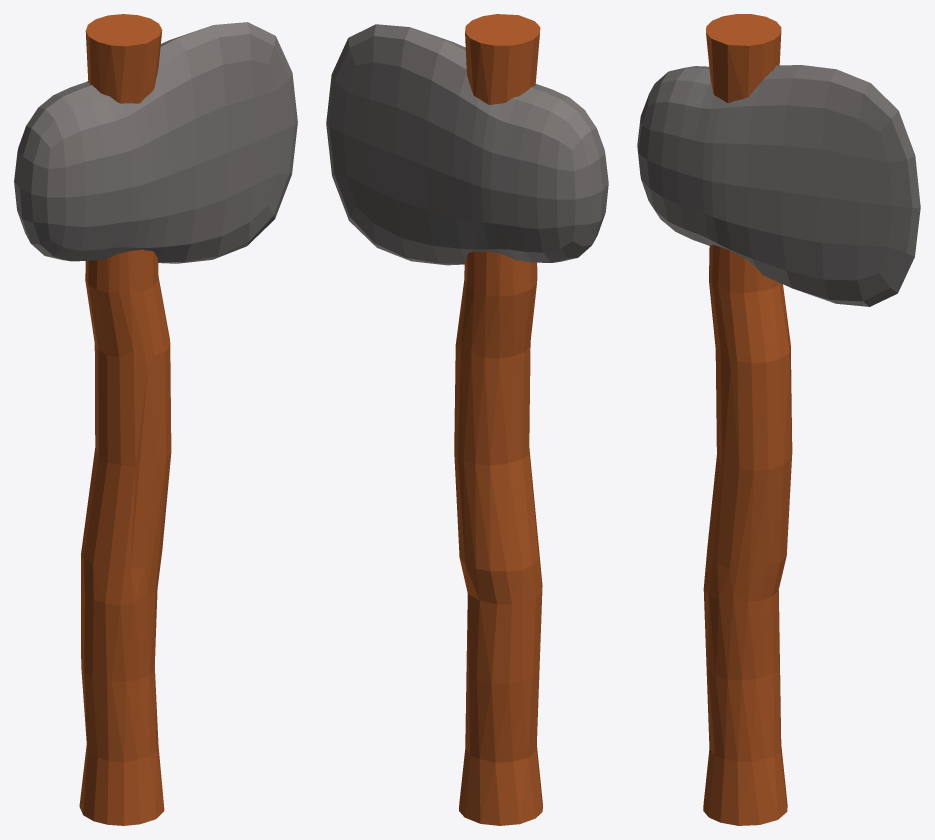
The model's file is axe.fbx.
3 views of the same model, side by side, from view 1: azimuth 30°, elevation 25°; view 2: azimuth 150°, elevation 25°; view 3: azimuth 330°, elevation 25° (orthographic).
Visible parts, largest first — view 1: Axe, Handle; view 2: Axe, Handle; view 3: Axe, Handle.
Part boxes in pixels (x1,y1,x2,y2): Axe: [14, 22, 297, 263]; Handle: [79, 14, 171, 825]; Axe: [326, 24, 608, 265]; Handle: [454, 14, 542, 825]; Axe: [637, 65, 920, 306]; Handle: [703, 14, 792, 825].
Size of the model in its own units: 188 by 504 by 62.7.
